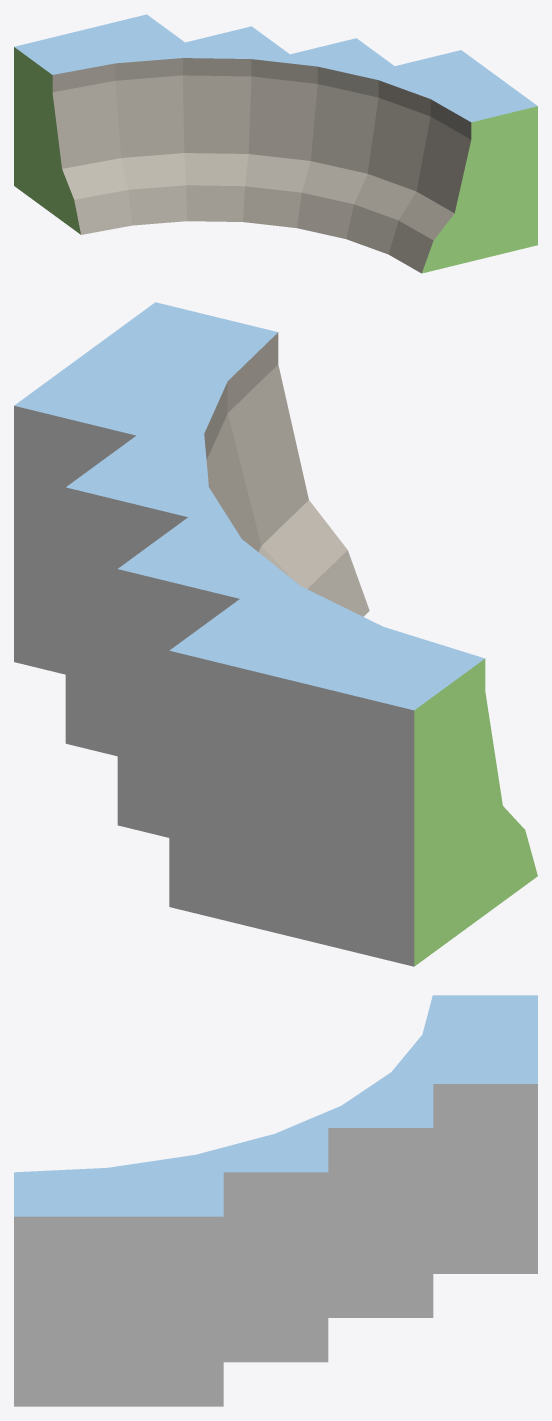
File: Wall_Curve_Inner_5x5_Base.glb
3 renders of one model, top to bottom at view 1: azimuth 30°, elevation 25°; view 2: azimuth 150°, elevation 25°; view 3: azimuth 270°, elevation 25°, orthographic. The views are drawn at different scales.
Visible parts, largest first — view 1: Wall_Curve_Inner_5x5_Base; view 2: Wall_Curve_Inner_5x5_Base; view 3: Wall_Curve_Inner_5x5_Base.
Part boxes in pixels (x1=…): Wall_Curve_Inner_5x5_Base: x1=14, y1=14, x2=537, y2=273; Wall_Curve_Inner_5x5_Base: x1=14, y1=302, x2=537, y2=966; Wall_Curve_Inner_5x5_Base: x1=14, y1=995, x2=537, y2=1406.
Bounding box in the file's own units: 500 × 200 × 500.
